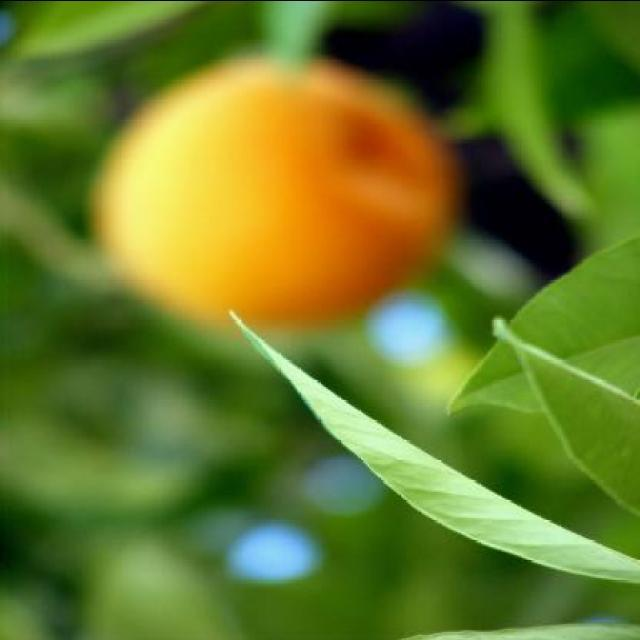Orange: (64, 53, 462, 350)
